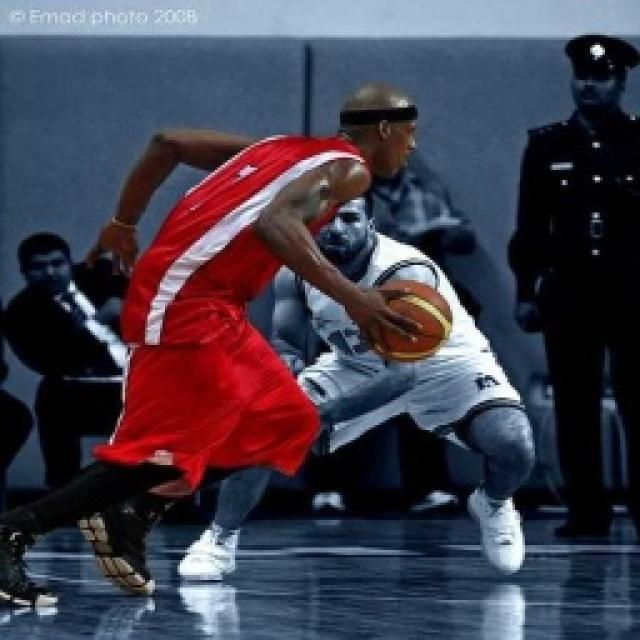rim: (353, 276, 452, 364)
